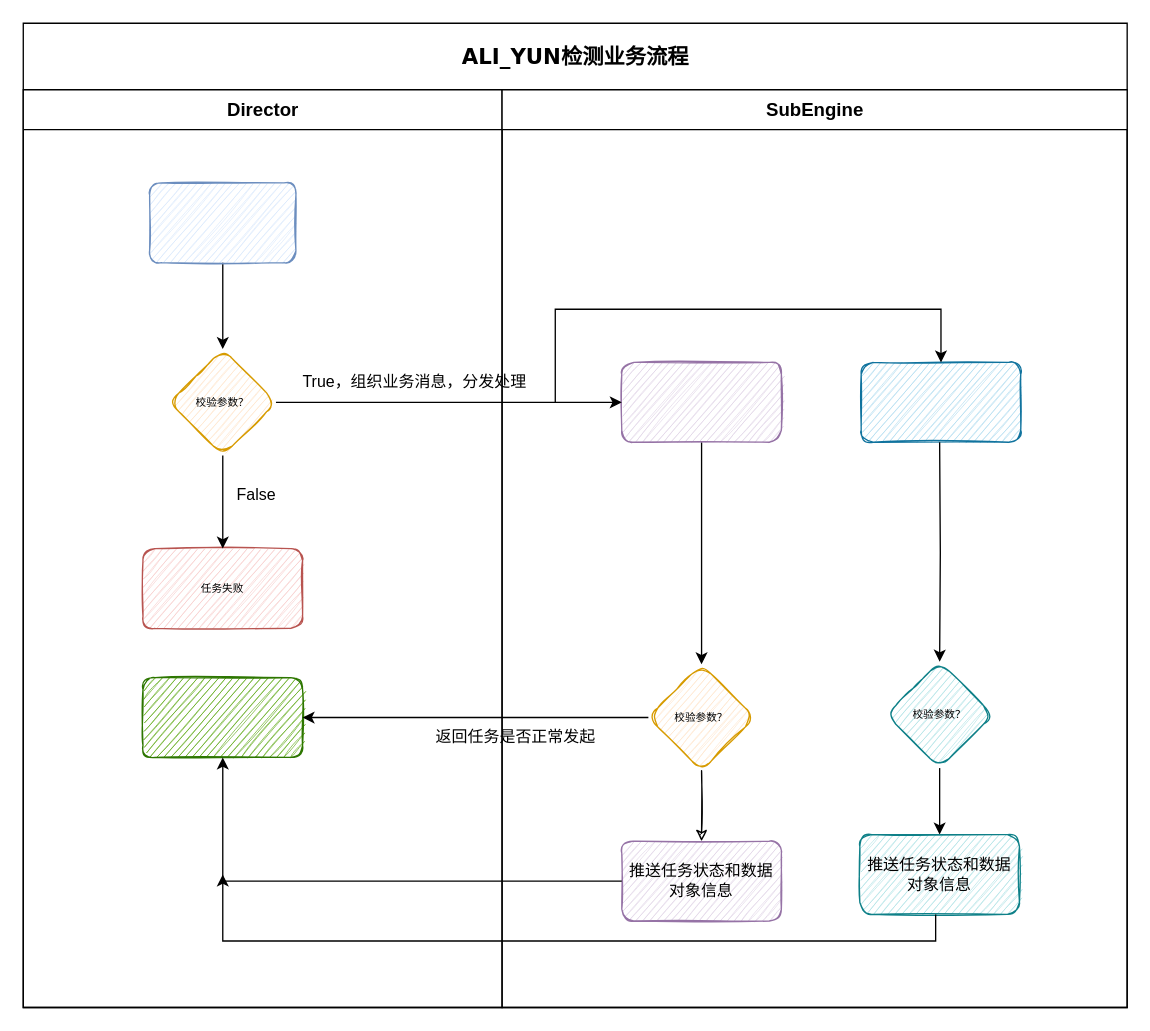
Image size: 1150x1031. Some labels were removed from this diagram. The centre of each missing label's shape, as x and y in pixels:
"ECS消息处理器" goes at (700,401).
"RDS消息处理器" goes at (940,401).
"UI或自动任务调度" goes at (222,222).
"接收显示任务状态&处理上报数据对象信息" goes at (222,716).
